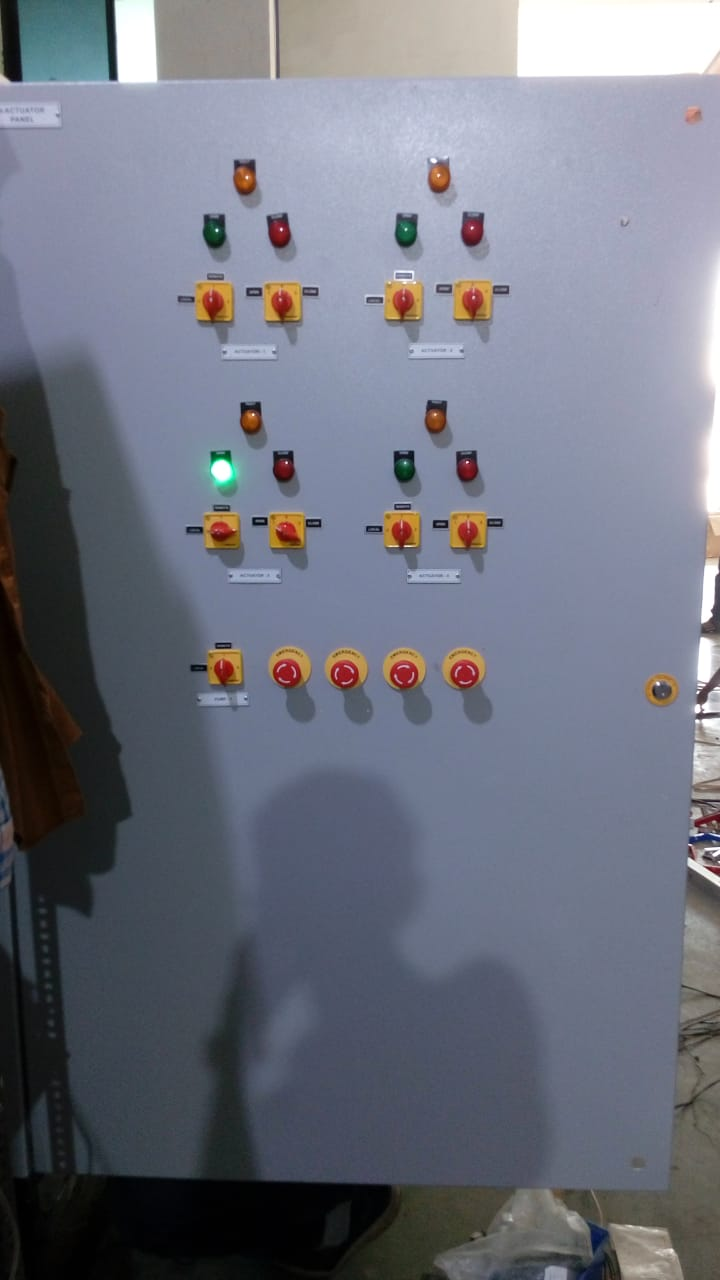Green_Led_Off: (446, 441, 493, 495), (383, 210, 428, 256), (385, 443, 422, 498), (193, 212, 236, 259)
Green_Led_On: (203, 448, 249, 502)
Orange_Led_Off: (422, 155, 464, 199), (231, 398, 272, 441), (225, 155, 265, 199)
Red_Led_Off: (411, 395, 465, 439), (260, 448, 306, 492), (260, 210, 303, 255), (452, 212, 496, 253)
